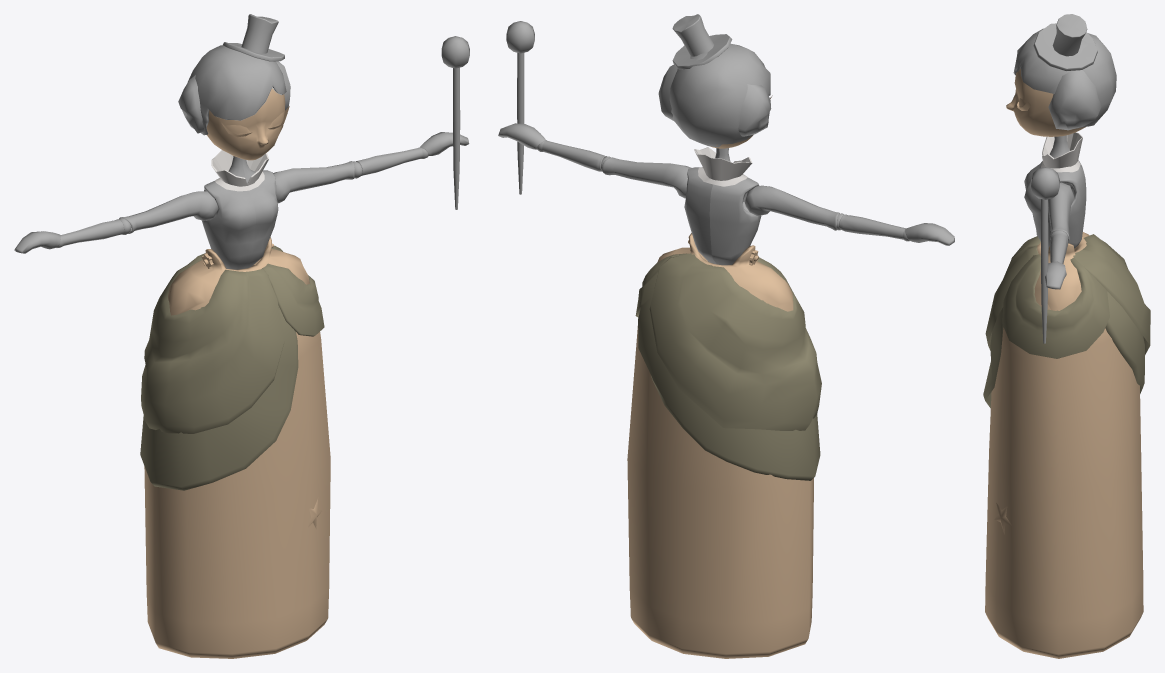
Rendered from magician_test.fbx.
The picture shows the model from 3 angles, left to right: view 1: azimuth 30°, elevation 25°; view 2: azimuth 150°, elevation 25°; view 3: azimuth 270°, elevation 25°; orthographic projection.
Visible parts, largest first — view 1: dress, dress_layer1, dress_layer2, body, hair2, face, dress_layer3, polySurface9, polySurface13, collor2, pCylinder10, polySurface14 (+5 smaller); view 2: dress, dress_layer1, dress_layer2, hair2, body, polySurface9, polySurface13, collor2, polySurface17, pCylinder10, polySurface10, polySurface14 (+5 smaller); view 3: dress, dress_layer3, dress_layer1, hair2, dress_layer2, polySurface18, body, face, hat, pCylinder10, collor2, polySurface13 (+4 smaller).
Part boxes in pixels (x1,y1,x2,y2): dress: (144,237,330,658); dress_layer1: (141,253,284,433); dress_layer2: (140,306,298,490); body: (201,156,278,269); hair2: (187,45,286,135); face: (206,88,285,160); dress_layer3: (262,245,324,336); polySurface9: (119,191,218,233); polySurface13: (273,161,354,203); collor2: (211,150,268,191); pCylinder10: (241,14,278,53); polySurface14: (356,147,428,175); dress: (627,233,813,658); dress_layer1: (649,253,821,430); dress_layer2: (638,296,820,480); hair2: (669,43,770,147); body: (684,148,761,265); polySurface9: (745,185,839,230); polySurface13: (602,157,691,198); collor2: (694,147,752,186); polySurface17: (738,84,771,136); pCylinder10: (672,14,713,56); polySurface10: (839,214,909,241); polySurface14: (537,139,607,171); dress: (985,232,1143,658); dress_layer3: (1002,254,1109,358); dress_layer1: (985,234,1150,354); hair2: (1013,28,1116,128); dress_layer2: (983,291,1144,408); polySurface18: (1048,70,1101,130); body: (1024,135,1086,249); face: (1006,69,1085,136); hat: (1033,23,1097,70); pCylinder10: (1052,14,1087,56); collor2: (1041,132,1082,172); polySurface13: (1048,182,1074,242).
Size of the model in its own units: 5.62 by 7.19 by 1.77.
